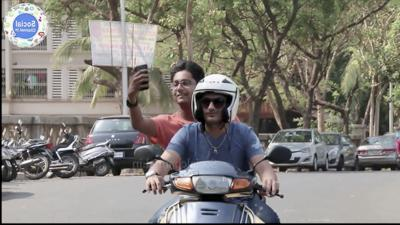With Helmet: (186, 70, 247, 130)
